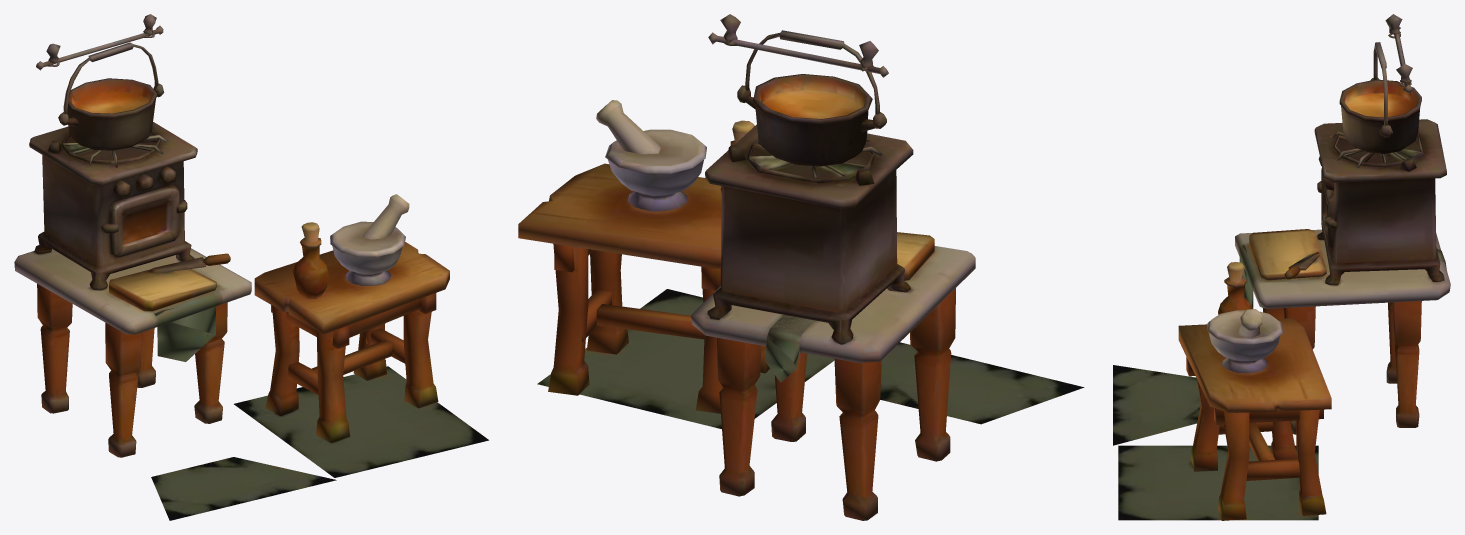
Rendered from wyn_furn_home_kitchen.glb.
The picture shows the model from 3 angles, left to right: view 1: azimuth 30°, elevation 25°; view 2: azimuth 150°, elevation 25°; view 3: azimuth 270°, elevation 25°; orthographic projection. The views are drawn at different scales.
Visible parts, largest first — view 1: tripo_node_a4787e14-499a-446a-a45e-d1b4940a7513; view 2: tripo_node_a4787e14-499a-446a-a45e-d1b4940a7513; view 3: tripo_node_a4787e14-499a-446a-a45e-d1b4940a7513.
Part boxes in pixels (x1,y1,x2,y2): tripo_node_a4787e14-499a-446a-a45e-d1b4940a7513: (14,14,488,520); tripo_node_a4787e14-499a-446a-a45e-d1b4940a7513: (518,14,1084,520); tripo_node_a4787e14-499a-446a-a45e-d1b4940a7513: (1113,14,1450,520).
Size of the model in its own units: 1.25 by 1.3 by 1.1.
1 material, 1 textured.
